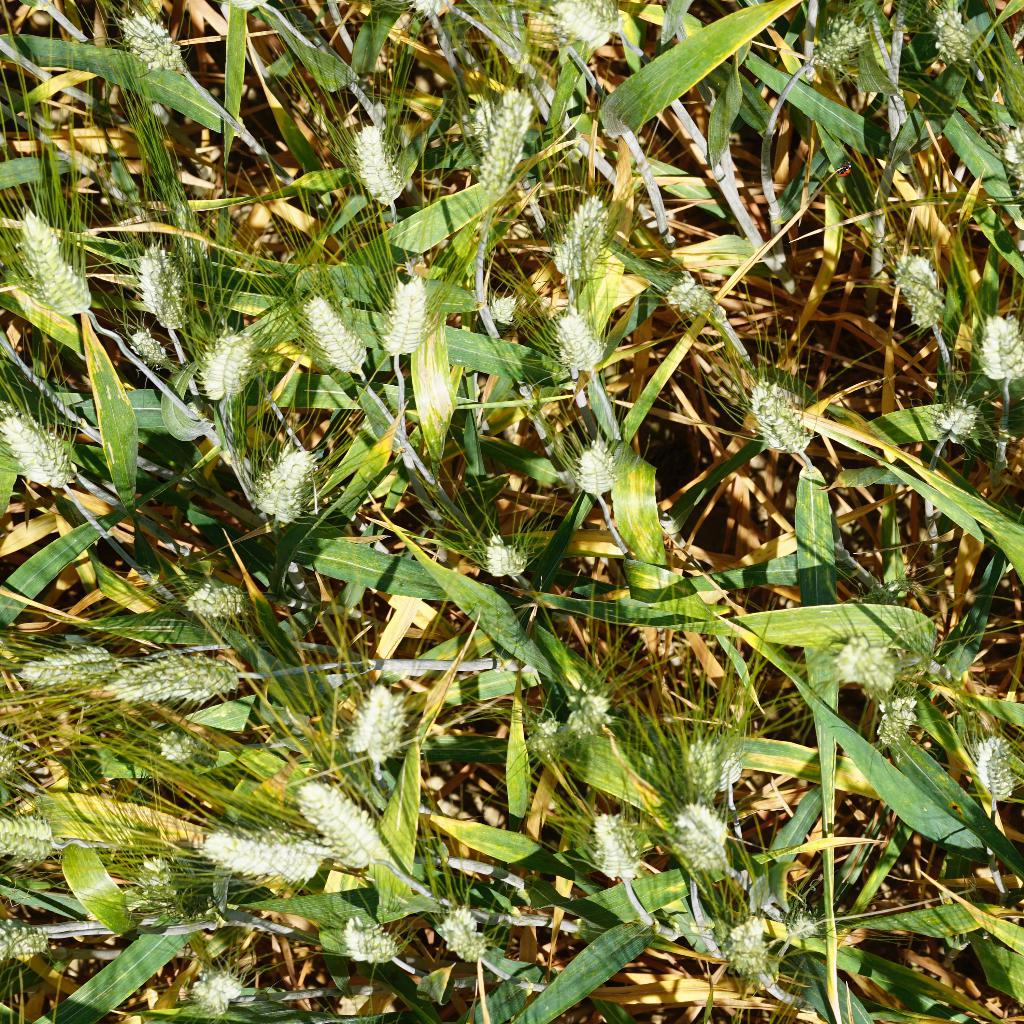0-0: (11, 198, 100, 326), (281, 281, 374, 391), (194, 811, 331, 884), (340, 114, 428, 221), (292, 776, 393, 863), (463, 85, 526, 220), (238, 438, 331, 529), (0, 401, 75, 505), (545, 187, 615, 296), (732, 370, 813, 464), (108, 649, 249, 702), (819, 623, 922, 690), (710, 914, 792, 998), (372, 257, 433, 369), (882, 238, 949, 336), (8, 641, 123, 698), (183, 324, 257, 411), (346, 681, 415, 770), (122, 238, 191, 326), (535, 295, 605, 380), (107, 0, 189, 71), (587, 802, 649, 893), (423, 903, 499, 974), (0, 806, 89, 866), (802, 10, 874, 82), (658, 265, 725, 340), (671, 800, 733, 881), (967, 311, 1024, 399), (535, 0, 624, 55), (332, 912, 408, 975), (464, 287, 524, 364), (664, 725, 725, 800), (182, 957, 249, 1024), (968, 721, 1024, 800), (933, 0, 993, 73), (365, 0, 471, 40), (550, 679, 619, 739), (474, 530, 542, 590), (0, 903, 60, 971), (568, 436, 620, 511), (700, 724, 750, 802), (186, 571, 245, 636), (859, 687, 919, 750), (116, 316, 178, 374), (126, 844, 182, 908), (931, 392, 993, 447), (516, 707, 568, 770), (153, 722, 205, 772), (780, 896, 832, 946), (848, 572, 918, 608)
